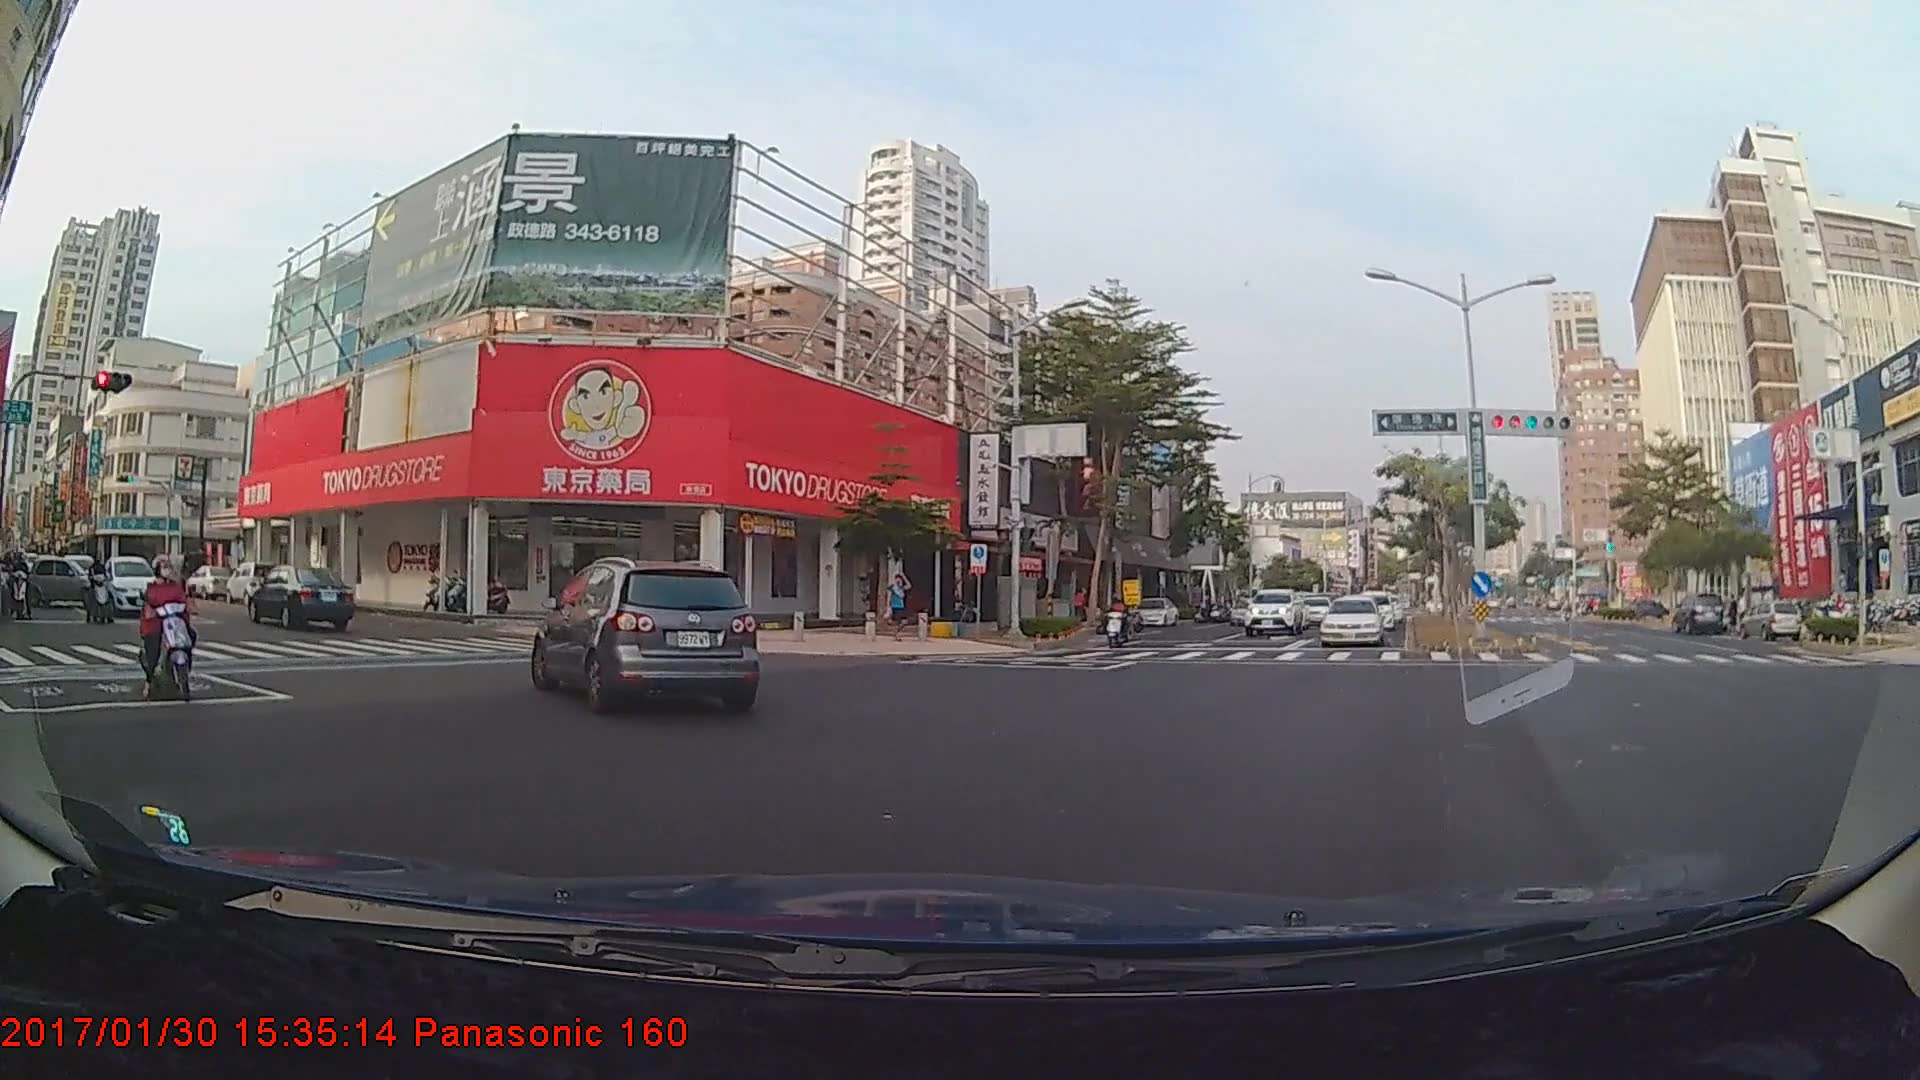pedestrian: (888, 571, 912, 643)
rider: (135, 555, 207, 712), (89, 549, 127, 631), (1103, 587, 1141, 647)
vehicle: (537, 559, 756, 713), (249, 563, 352, 632), (24, 554, 119, 607), (102, 555, 167, 617), (1322, 594, 1384, 645), (1243, 586, 1304, 634), (1670, 590, 1724, 633), (1347, 588, 1396, 629), (1129, 593, 1178, 623)
